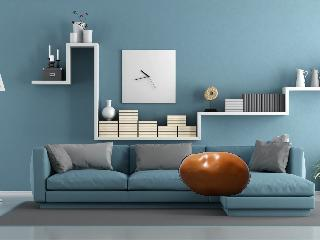potato: (178, 150, 253, 198)
